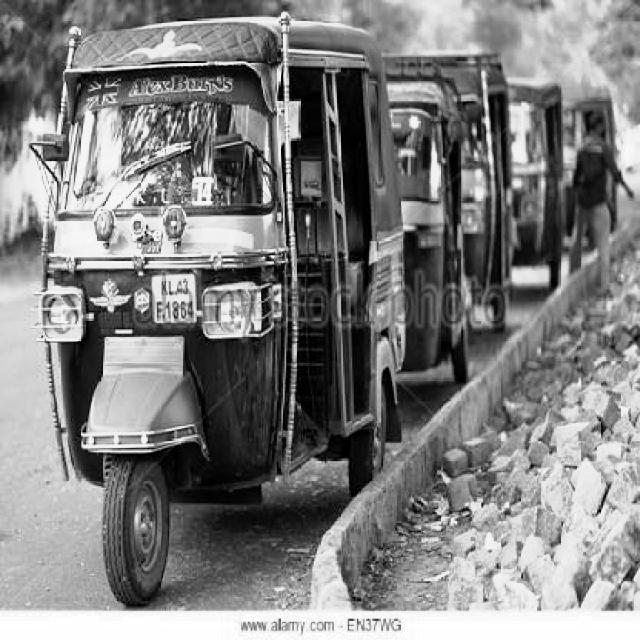Auto-Rickshaw: (32, 18, 410, 620)
